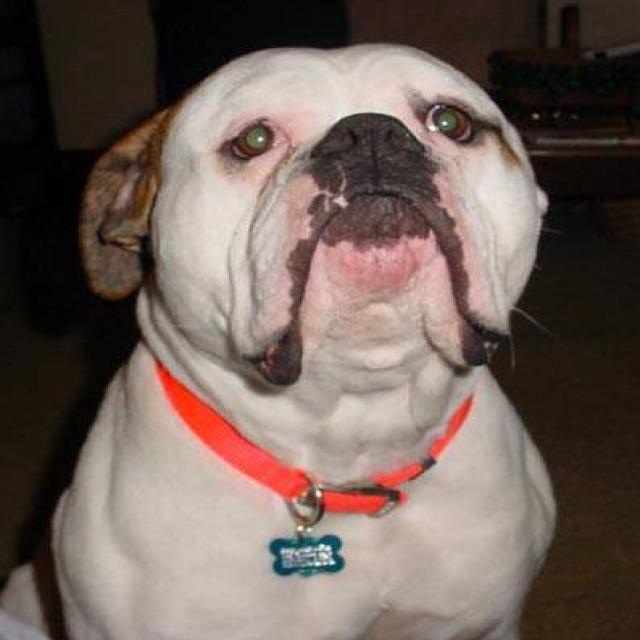dogs: (37, 37, 613, 640)
